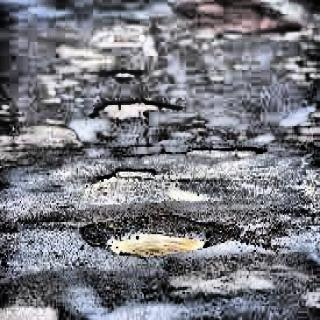pothole: (87, 210, 230, 264), (88, 97, 180, 127), (186, 141, 264, 162), (98, 165, 158, 185), (107, 67, 140, 82)
